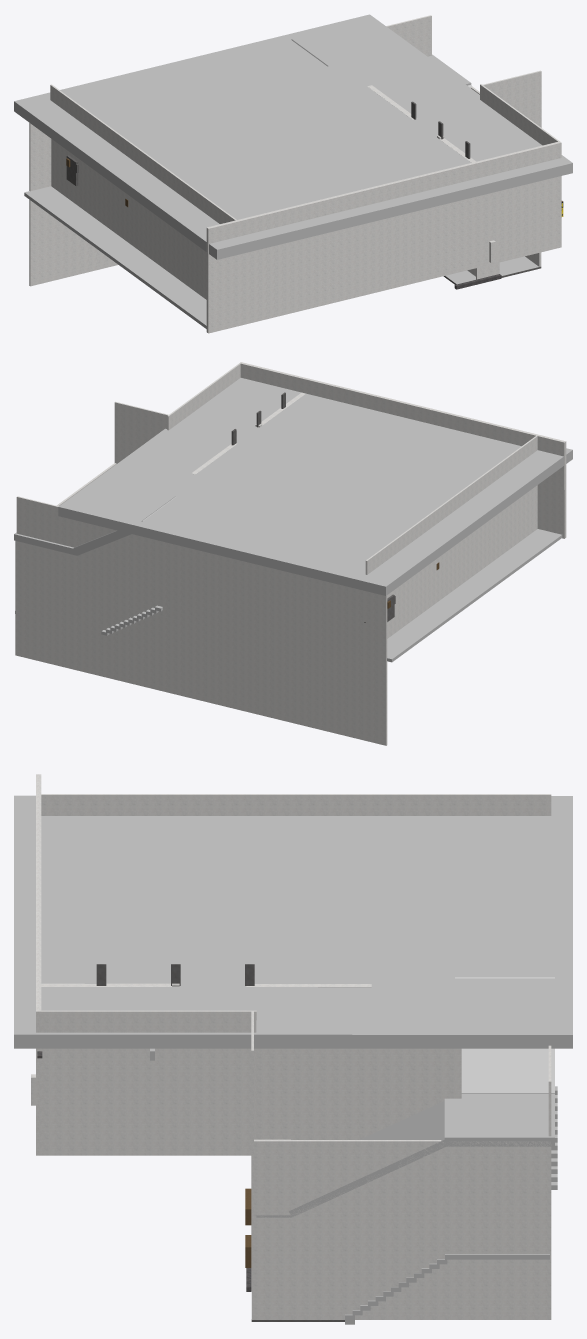
File: scp_room_electrical.dae
The picture shows the model from 3 angles, top to bottom: view 1: azimuth 30°, elevation 25°; view 2: azimuth 150°, elevation 25°; view 3: azimuth 270°, elevation 25°; orthographic projection. The views are drawn at different scales.
Parts seen in each view (by area): view 1: SCP Control Room.014, SCP Control Room.009, SCP Control Room.013, SCP Control Room.020, SCP Control Room.008; view 2: SCP Control Room.009, SCP Control Room.014, SCP Control Room.013; view 3: SCP Control Room.014, SCP Control Room.009, SCP Control Room.013, SCP Control Room.008.
Boxes of the visible parts, x1,y1,x2,y2 form: SCP Control Room.014: (14,14,572,259); SCP Control Room.009: (29,15,561,333); SCP Control Room.013: (24,186,206,328); SCP Control Room.020: (445,256,538,284); SCP Control Room.008: (66,101,541,284); SCP Control Room.009: (15,362,566,745); SCP Control Room.014: (14,378,572,595); SCP Control Room.013: (15,529,562,662); SCP Control Room.014: (14,795,572,1217); SCP Control Room.009: (31,774,551,1319); SCP Control Room.013: (345,1086,557,1324); SCP Control Room.008: (96,964,344,1321).
Size of the model in its own units: 53.41 by 43.62 by 23.54.
